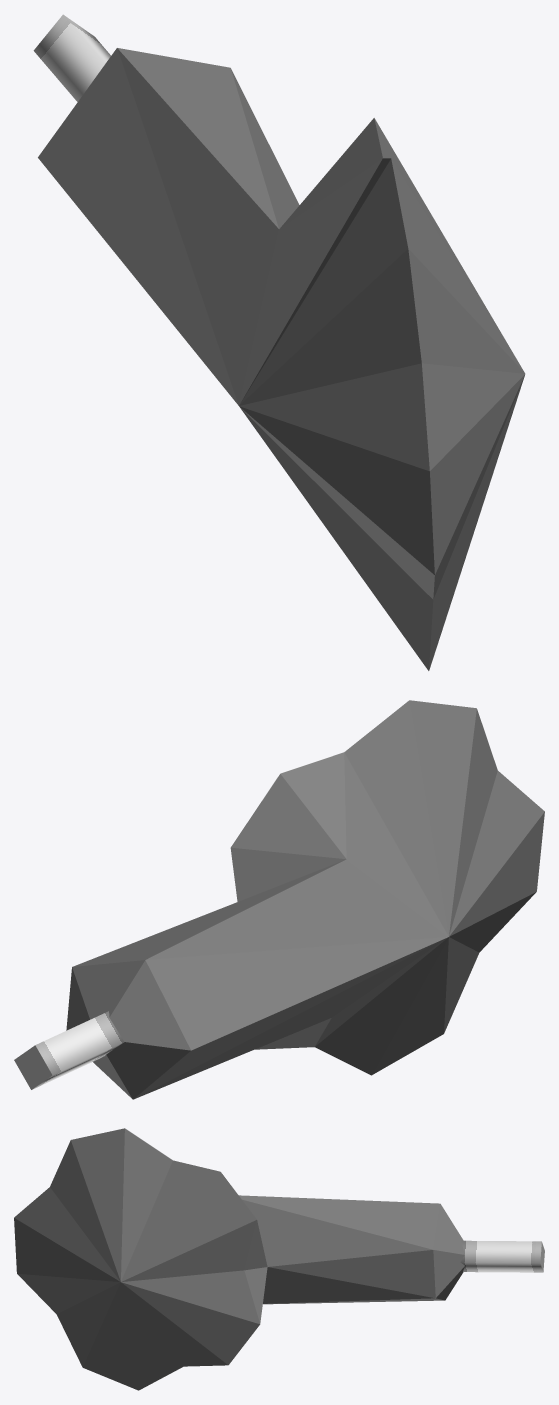
Rendered from sticklight_grn.dae.
The picture shows the model from 3 angles, top to bottom: view 1: azimuth 30°, elevation 25°; view 2: azimuth 150°, elevation 25°; view 3: azimuth 270°, elevation 25°; orthographic projection. The views are drawn at different scales.
Visible parts, largest first — view 1: sticklight_grn; view 2: sticklight_grn; view 3: sticklight_grn.
Part boxes in pixels (<box>): sticklight_grn: <box>33,14,525,670</box>; sticklight_grn: <box>14,700,544,1099</box>; sticklight_grn: <box>14,1128,544,1390</box>.
Size of the model in its own units: 5.75 by 10.84 by 20.6.
Materials: 2 (1 with a texture image).
